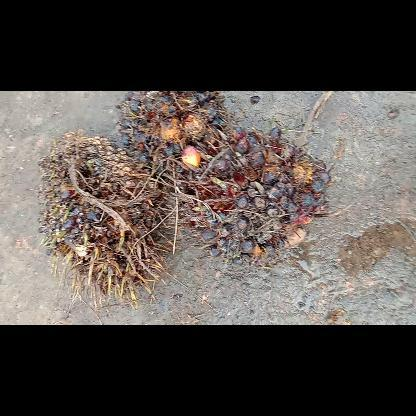TBS abnormal: (161, 126, 331, 264), (39, 132, 169, 310), (120, 91, 230, 169)
